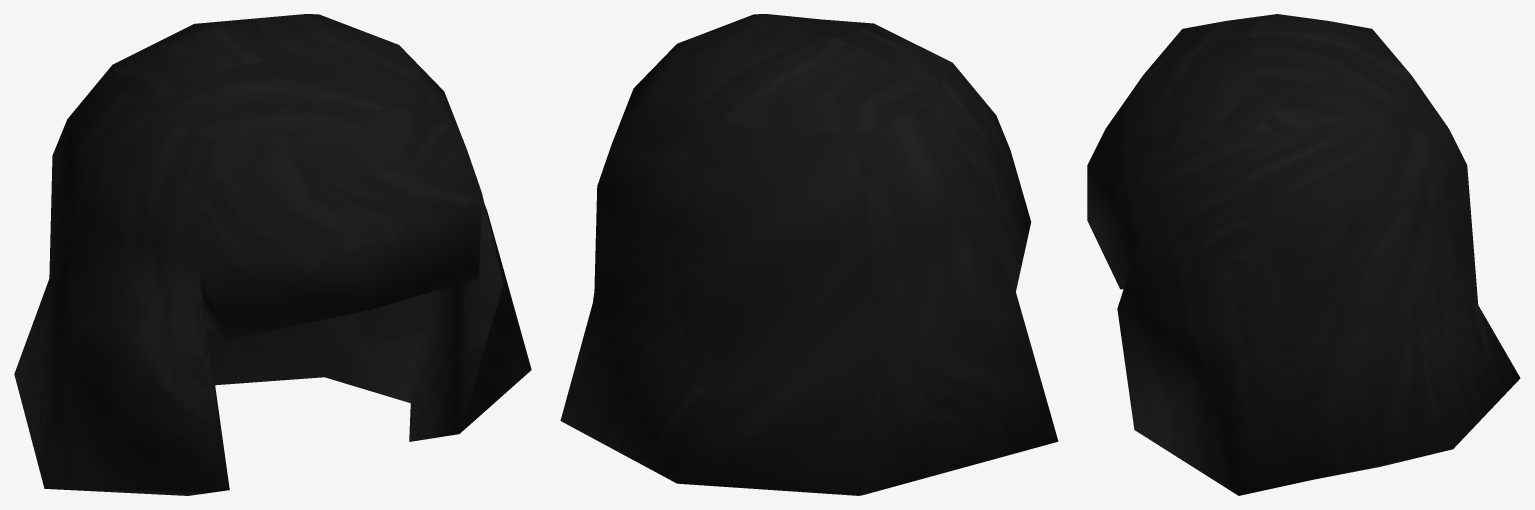
File: five_dollar_milkshake.glb
The picture shows the model from 3 angles, left to right: view 1: azimuth 30°, elevation 25°; view 2: azimuth 150°, elevation 25°; view 3: azimuth 270°, elevation 25°; orthographic projection. The views are drawn at different scales.
Visible parts, largest first — view 1: Five-Dollar Milkshake; view 2: Five-Dollar Milkshake; view 3: Five-Dollar Milkshake.
Boxes of the visible parts, x1,y1,x2,y2 form: Five-Dollar Milkshake: (14,14,531,495); Five-Dollar Milkshake: (560,14,1058,495); Five-Dollar Milkshake: (1087,14,1520,495).
Bounding box in the file's own units: 0.3848 × 0.3055 × 0.3211.
Materials: 1 (1 with a texture image).
